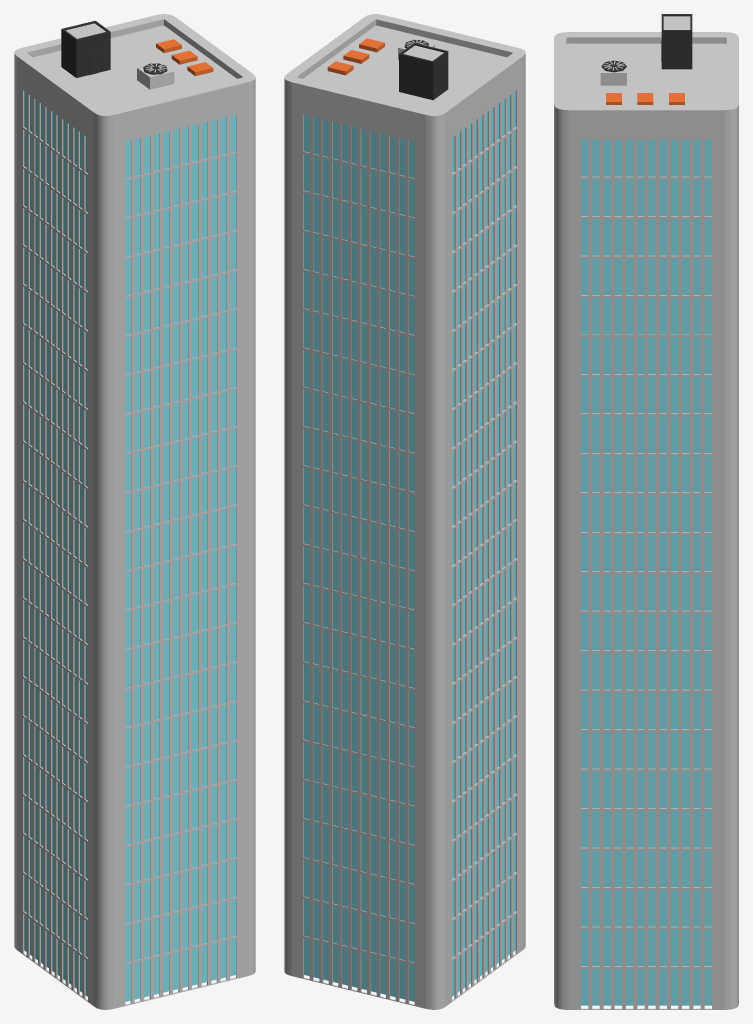
Rendered from 1ebe8caa-c846-479e-bce0-501fa5e893fc.glb.
3 renders of one model, left to right at view 1: azimuth 30°, elevation 25°; view 2: azimuth 150°, elevation 25°; view 3: azimuth 270°, elevation 25°, orthographic.
Parts seen in each view (by area): view 1: Box20207, Object002, Box20208, Box20210; view 2: Box20207, Object002, Box20208; view 3: Box20207, Object002, Box20208, Box20210.
Boxes of the visible parts, x1,y1,x2,y2 form: Box20207: (14,14,255,1009); Object002: (24,91,236,1001); Box20208: (61,20,110,77); Box20210: (137,62,174,89); Box20207: (284,14,525,1009); Object002: (304,91,515,1001); Box20208: (399,43,448,100); Box20207: (554,32,738,1009); Object002: (581,140,711,1005); Box20208: (661,14,692,69); Box20210: (600,61,626,85).
Size of the model in its own units: 148 by 823 by 148.
